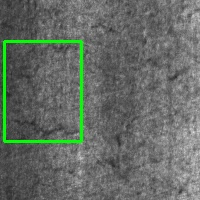crazing: (4, 41, 81, 141)
